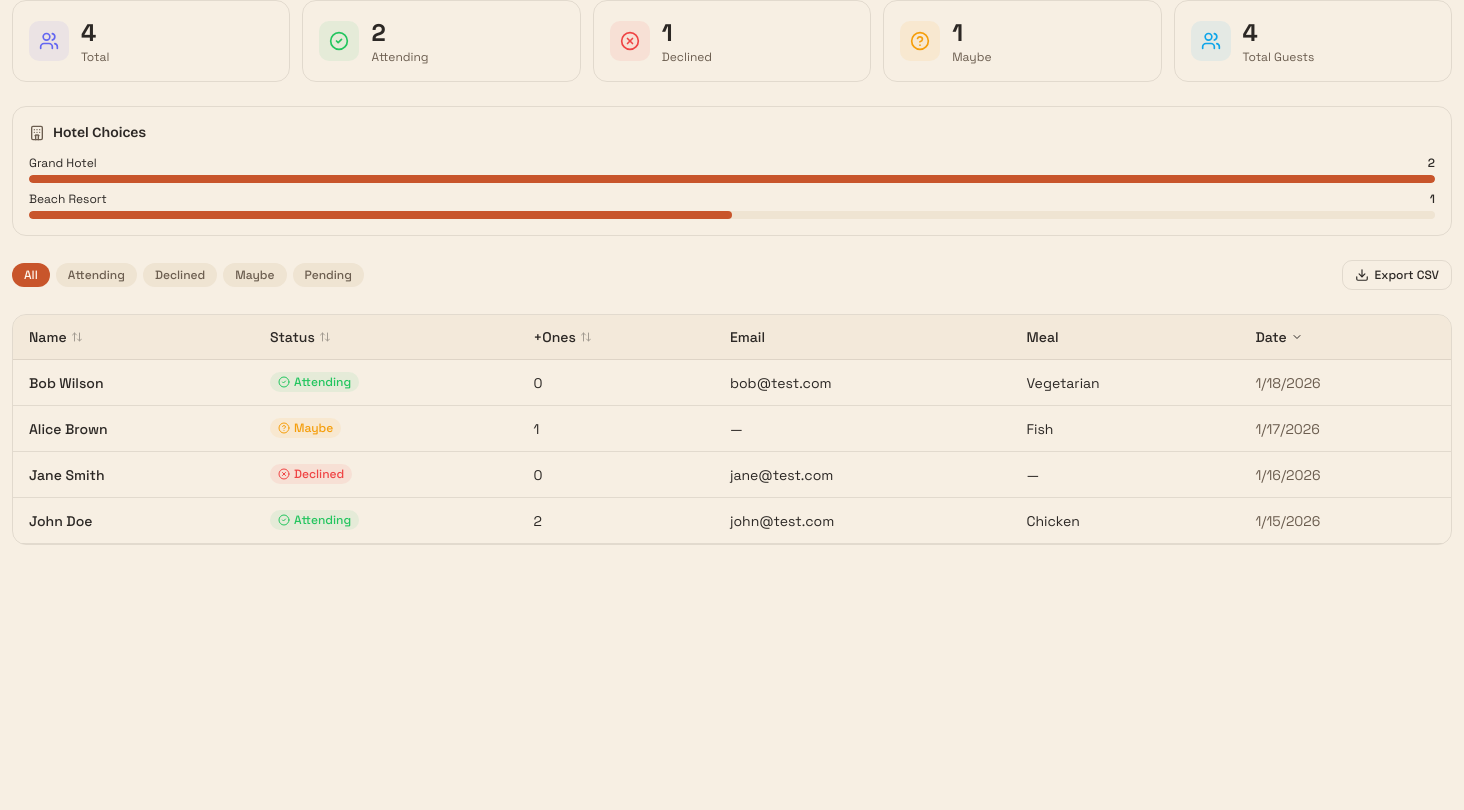
Scenario: RSVPDashboard › shows expanded detail when row is clicked
Check: the element with test id "rsvp-table" is shown, box [12, 314, 1452, 545]
Step 1. Click the row with test id "rsvp-row-rsvp-1" → click(732, 520), box [13, 498, 1451, 544]
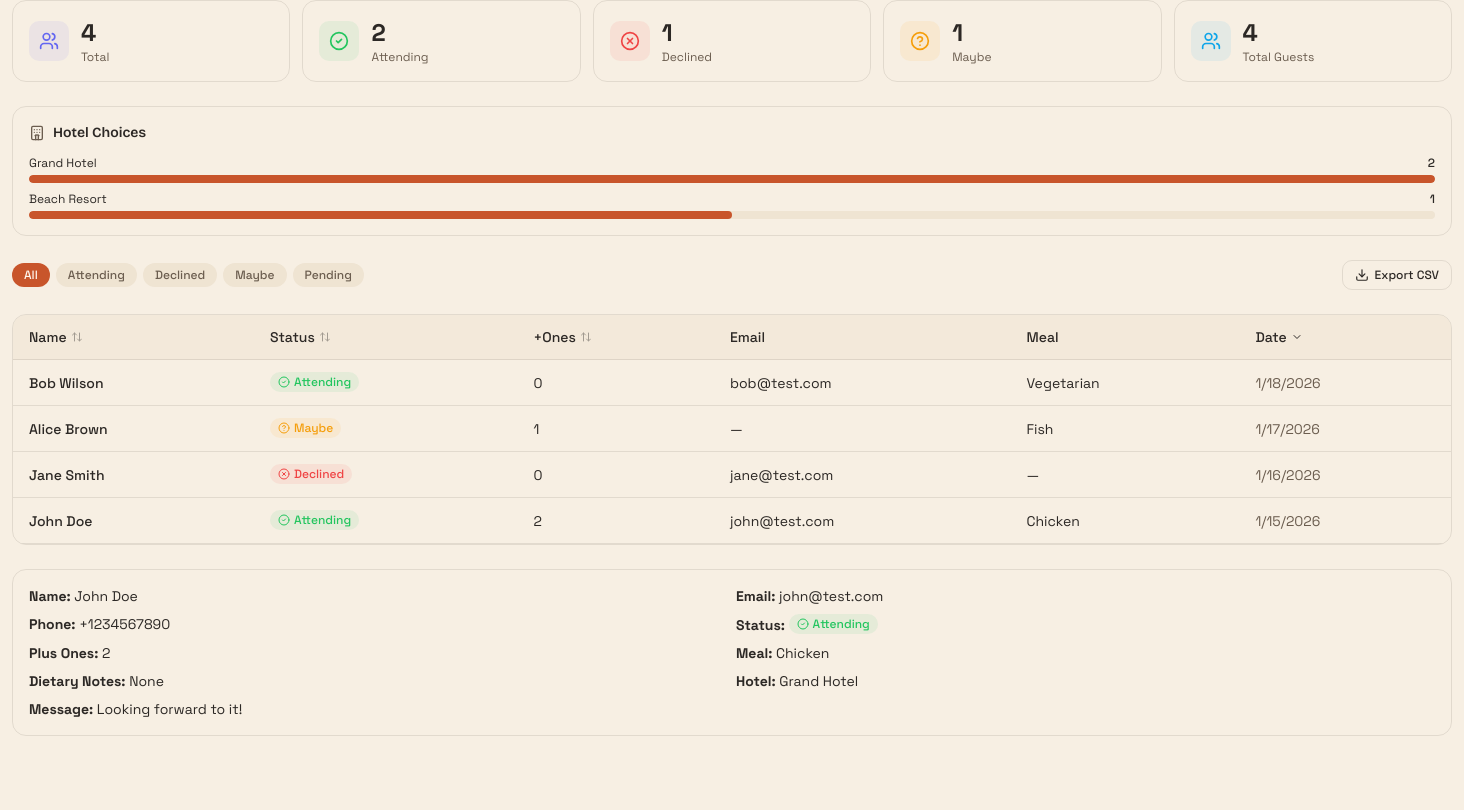
Check: the element with test id "rsvp-detail" is shown, box [12, 569, 1452, 736]
Check: the text "Looking forward to it!" is shown, box [97, 700, 242, 718]
